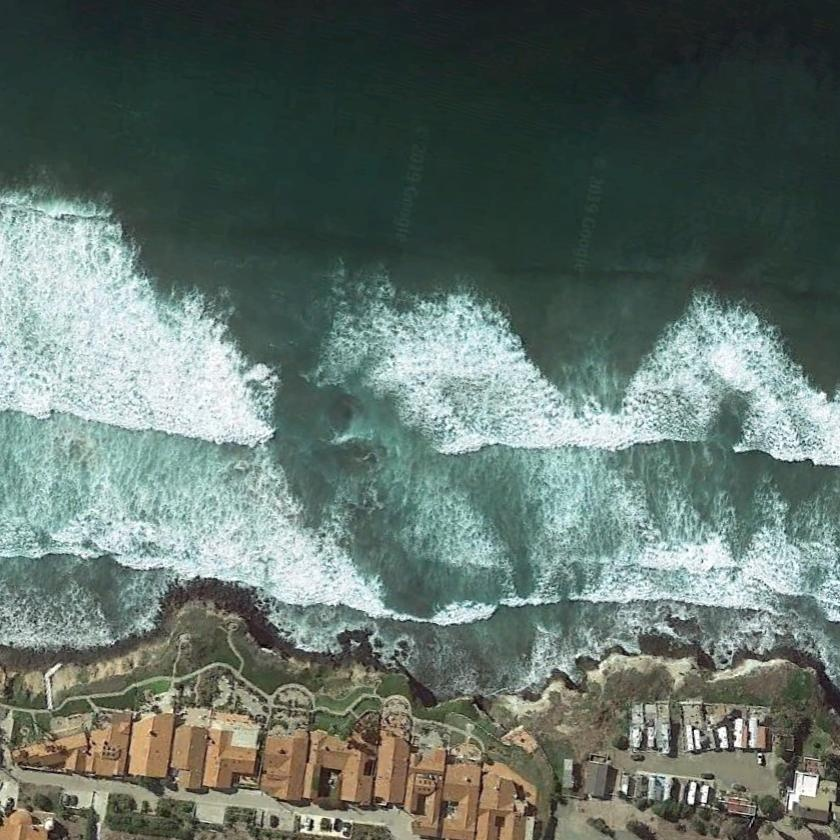rip_current: (105, 184, 505, 629)
